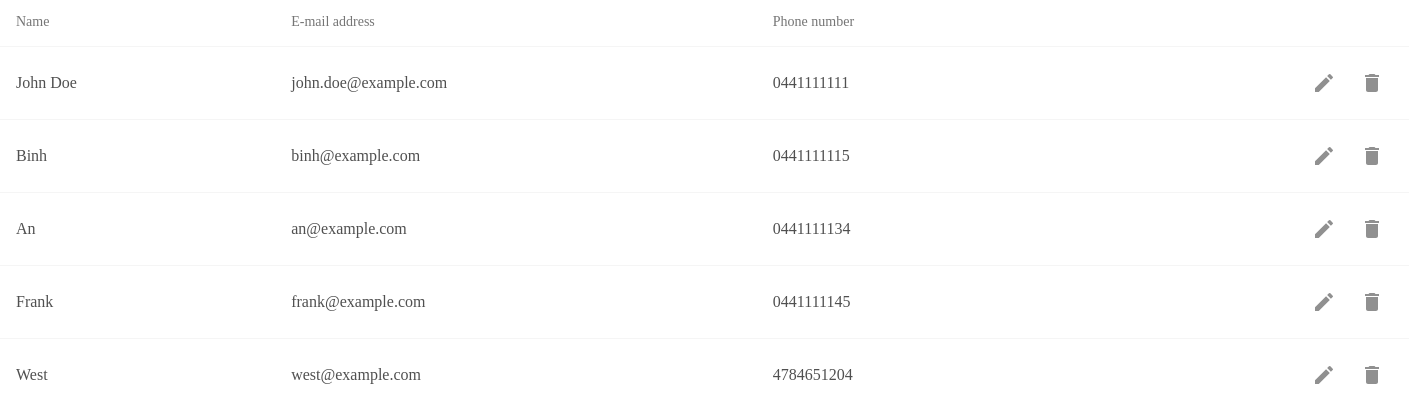
it: Delete a row
Check: the text "John Doe" is shown, box [16,74,77,91]
Check: the text "john.doe@example.com" is shown, box [291,74,447,91]
Click the button with test id "delete-john-doe-id" at (1372, 83), box [1352,71,1392,95]
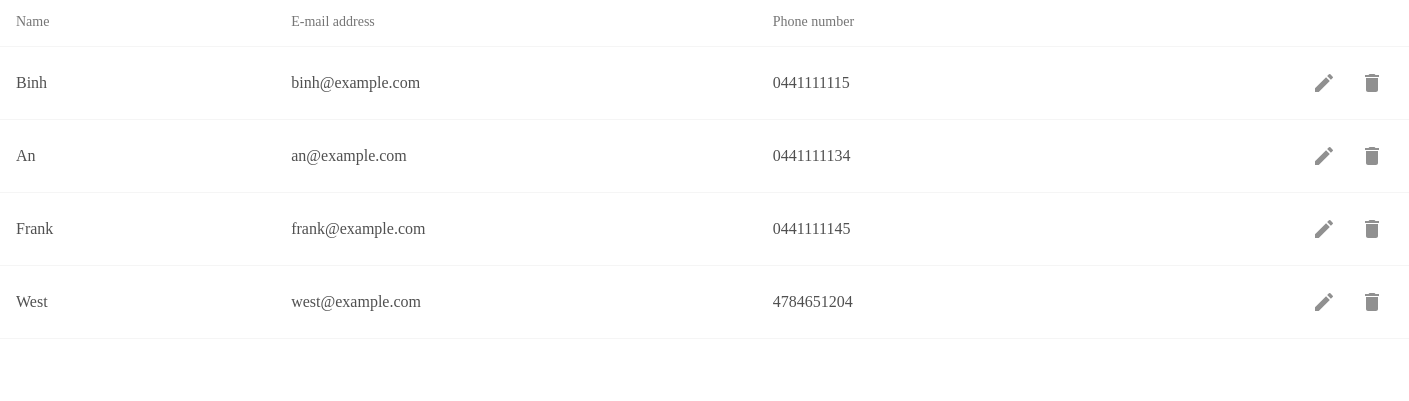
Check: the text "John Doe" is gone
Check: the text "john.doe@example.com" is gone
Check: the text "0441111111" is gone
